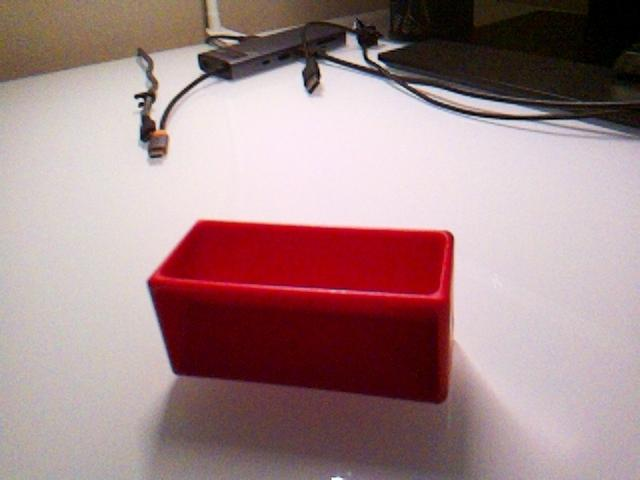red: (146, 216, 456, 405)
